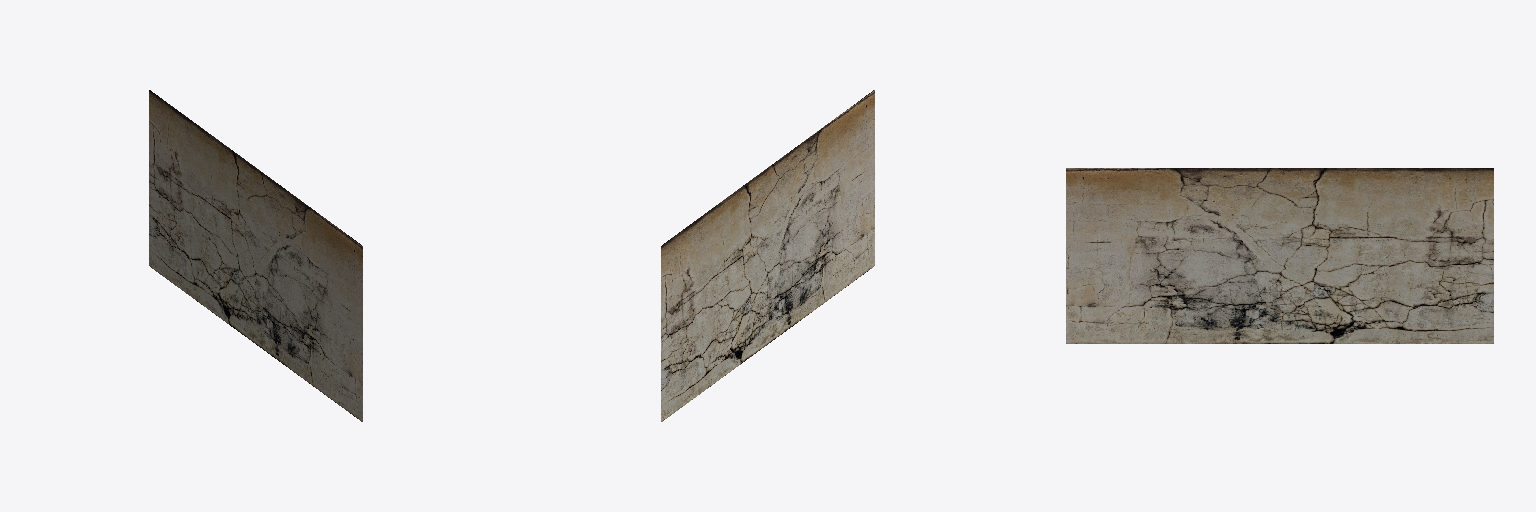
The picture shows the model from 3 angles: view 1: azimuth 30°, elevation 25°; view 2: azimuth 150°, elevation 25°; view 3: azimuth 270°, elevation 25°; orthographic projection.
Visible parts, largest first — view 1: Mesh_wall1; view 2: Mesh_wall1; view 3: Mesh_wall1.
Part boxes in pixels (x1,y1,x2,y2): Mesh_wall1: (149, 90, 362, 421); Mesh_wall1: (661, 90, 874, 421); Mesh_wall1: (1066, 168, 1493, 343).
Bounding box in the file's own units: 0 × 3 × 6.59.
1 materials, 1 textured.